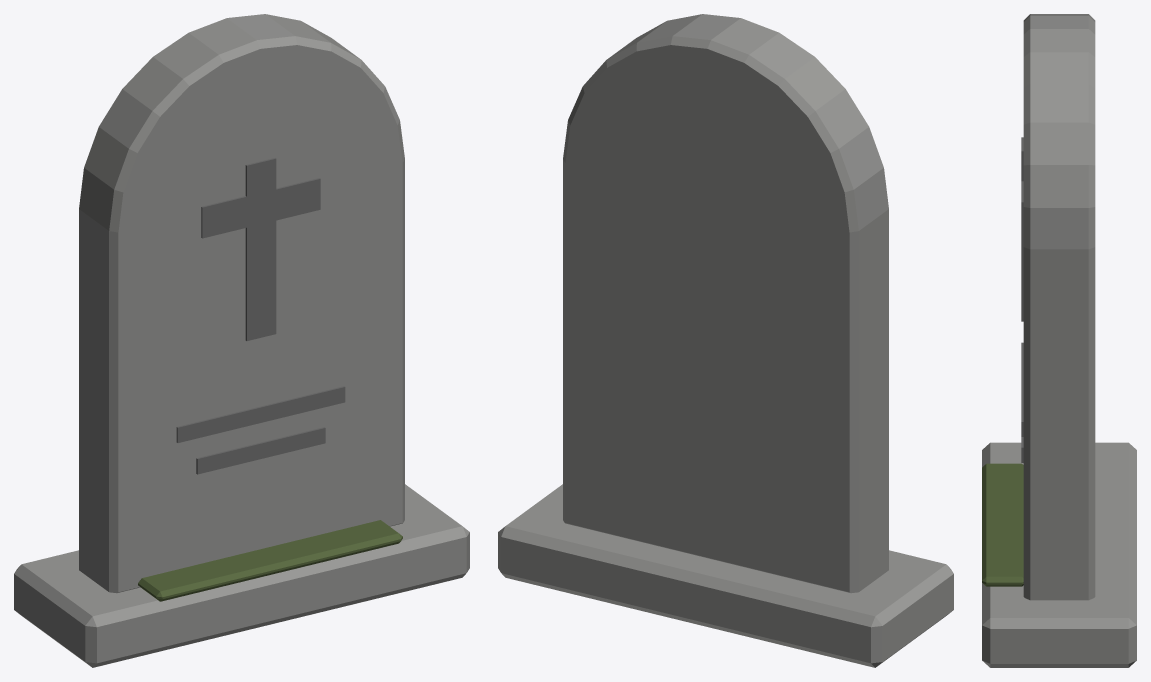
Rendered from gravestone_a.glb.
3 renders of one model, left to right at view 1: azimuth 30°, elevation 25°; view 2: azimuth 150°, elevation 25°; view 3: azimuth 270°, elevation 25°, orthographic. The views are drawn at different scales.
Visible parts, largest first — view 1: gravestone_a; view 2: gravestone_a; view 3: gravestone_a.
Boxes of the visible parts, <box> form: gravestone_a: <box>14,14,469,667</box>; gravestone_a: <box>498,14,953,667</box>; gravestone_a: <box>982,14,1136,667</box>.
Bounding box in the file's own units: 0.78 × 1.1 × 0.28.
